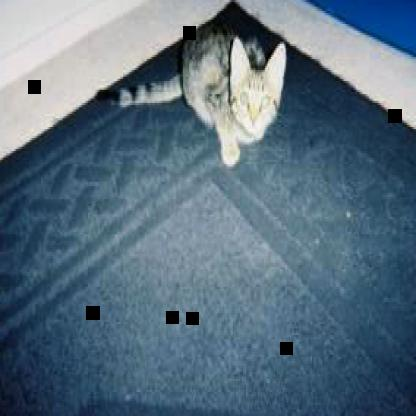cat: (98, 29, 286, 166)
